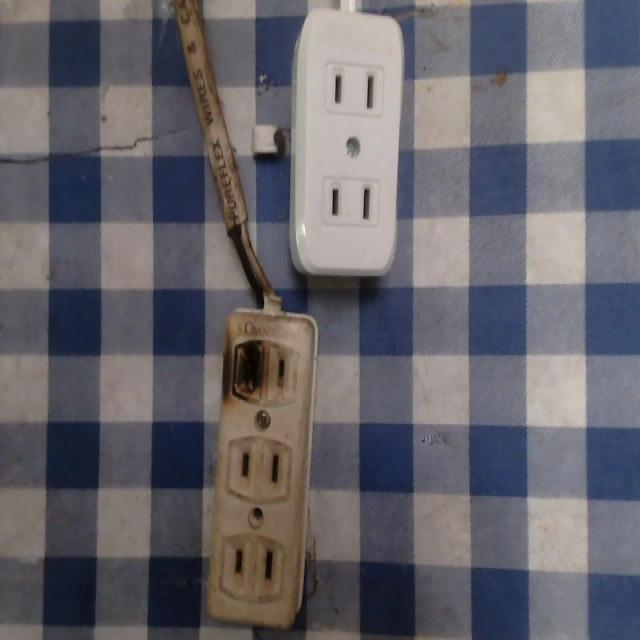-: (229, 336, 268, 401)
